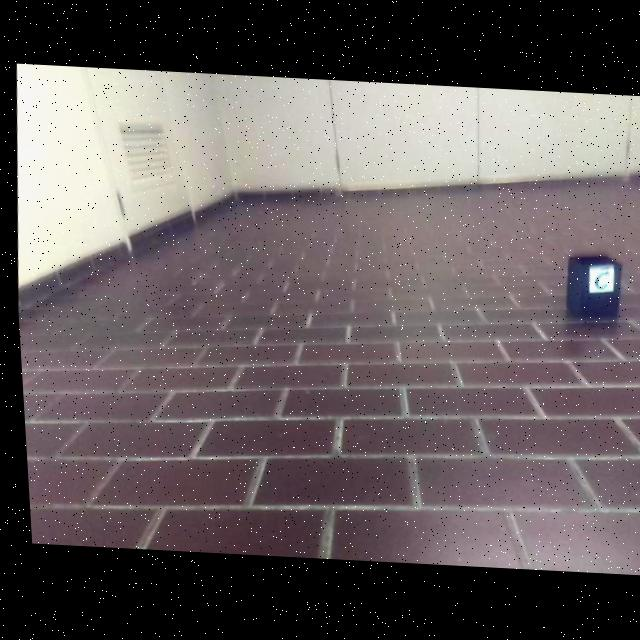C: (590, 272, 607, 291)
